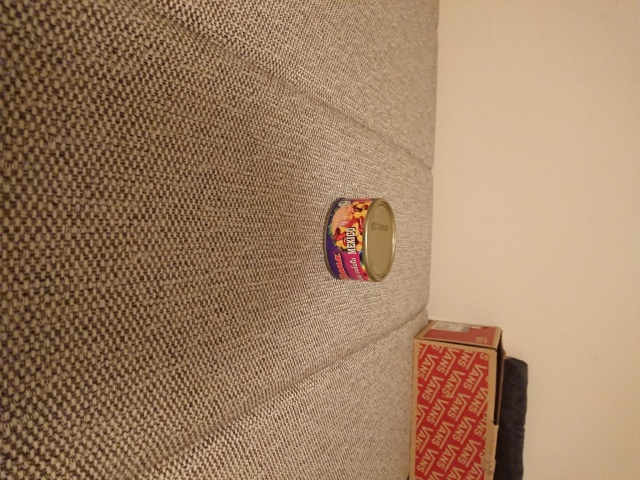Giana Tuna Salad Mexico 185g: (321, 195, 400, 287)
